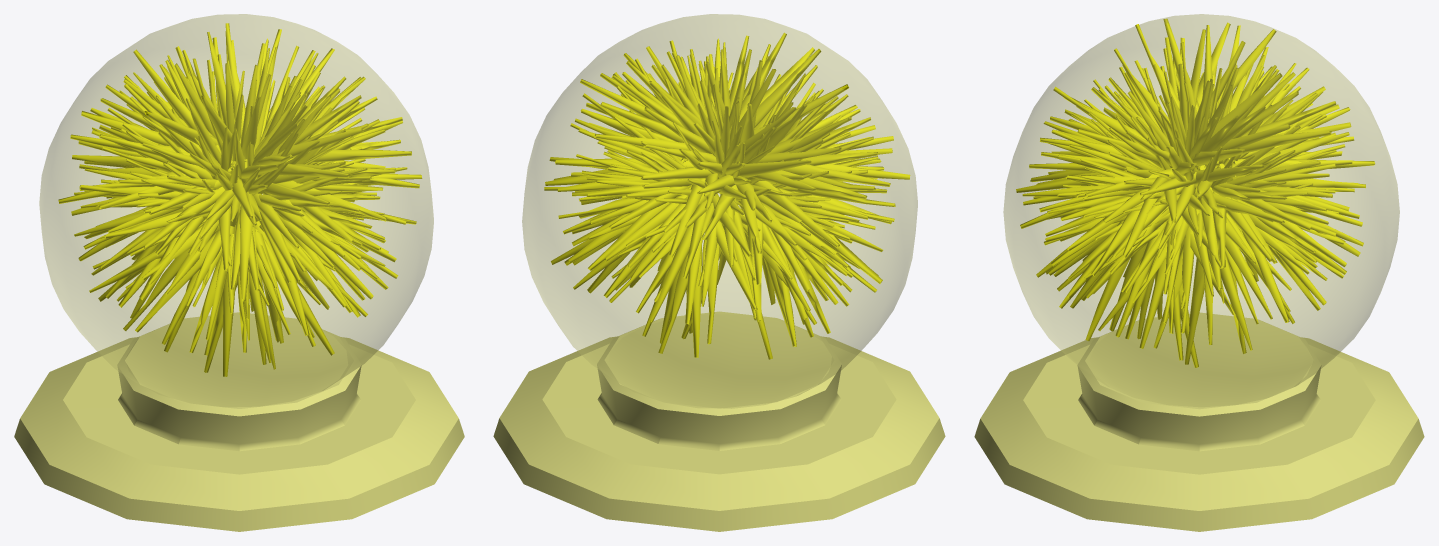
The model's file is ArtefaktGelb.fbx.
3 views of the same model, side by side, from view 1: azimuth 30°, elevation 25°; view 2: azimuth 150°, elevation 25°; view 3: azimuth 270°, elevation 25° (orthographic).
Visible parts, largest first — view 1: pSphere1, StandYellow, Star; view 2: pSphere1, StandYellow, Star; view 3: pSphere1, StandYellow, Star.
Boxes of the visible parts, box(x1,y1,x2,y2) form: pSphere1: box(39, 14, 433, 406); StandYellow: box(14, 312, 464, 531); Star: box(58, 23, 422, 376); pSphere1: box(522, 14, 917, 408); StandYellow: box(493, 311, 945, 531); Star: box(544, 32, 910, 359); pSphere1: box(1003, 14, 1399, 406); StandYellow: box(974, 312, 1424, 531); Star: box(1016, 18, 1375, 367).
Bounding box in the file's own units: 5.46 × 5.4 × 5.46.
